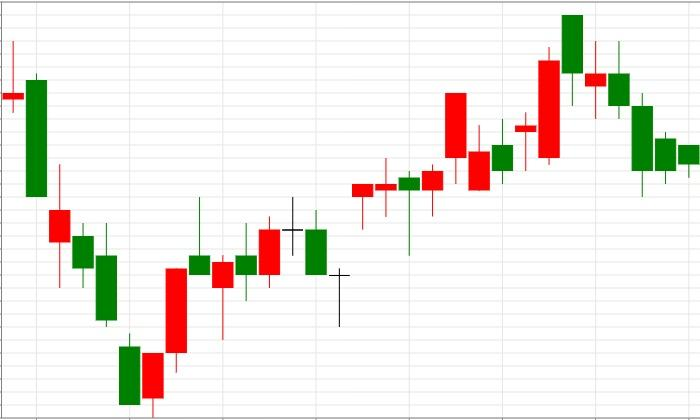evening_star_fall: (118, 196, 328, 417)
shooting_star_fall: (118, 196, 211, 418)
